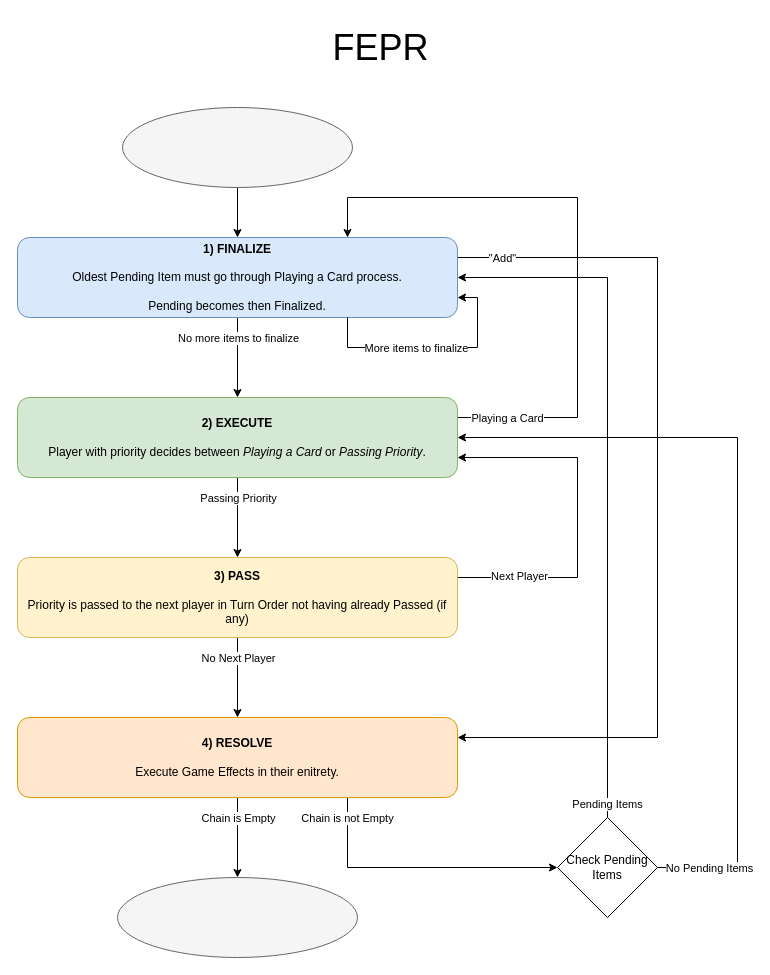
This 770x975 diagram has some shape labels left out. The box of each missing label's shape, as (x1, y1, x2, y2) in pixels:
A CHAIN IS CREATED WITH 1+ PENDING ITEMS ON IT: (122, 106, 352, 188)
OPEN STATE: (116, 876, 358, 958)
